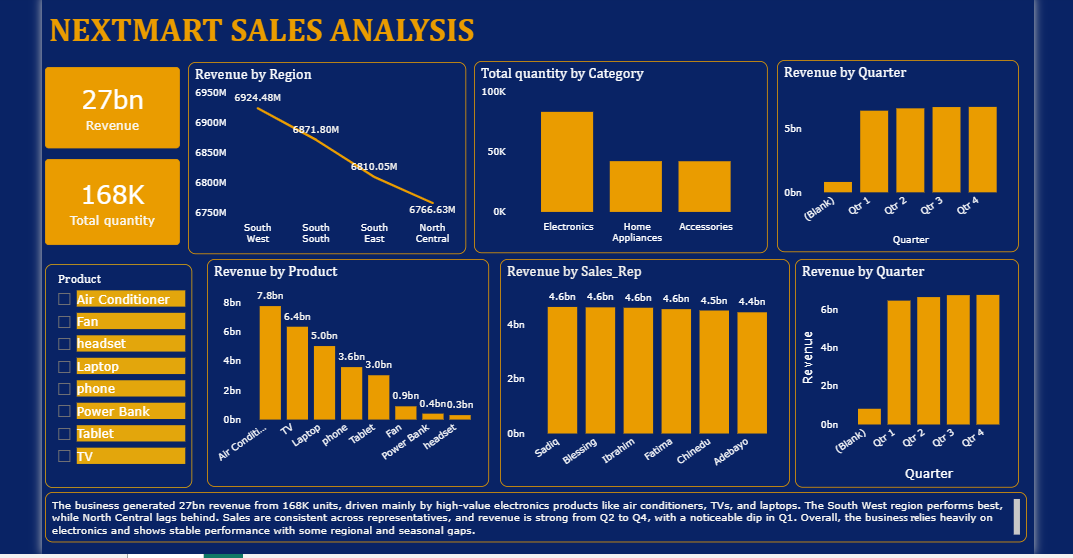

Layout of this report page (visuals, bound fields, positions):
{"tool":"powerbi","page":{"name":"Page 1","canvas":[1280,720],"ordinal":0},"visuals":[{"type":"lineChart","fields":{"Category":["Raw_Sales_Data (2).Region"],"Y":["Raw_Sales_Data (2).Revenue"]},"box":[188.4,85.2,358.7,247.7],"z":0},{"type":"clusteredColumnChart","fields":{"Category":["Raw_Sales_Data (2).Category"],"Y":["Raw_Sales_Data (2).Total quantity"]},"box":[557.4,83.9,379.4,247.7],"z":1000},{"type":"columnChart","fields":{"Category":["Raw_Sales_Data (2).Product"],"Y":["Raw_Sales_Data (2).Revenue"]},"box":[212.9,339.4,363.9,294.2],"z":2000},{"type":"clusteredColumnChart","fields":{"Category":["Raw_Sales_Data (2).Sales_Rep"],"Y":["Raw_Sales_Data (2).Revenue"]},"box":[591,339.4,374.2,294.2],"z":3000},{"type":"columnChart","fields":{"Category":["Raw_Sales_Data (2).Order_Date.Variation.Date Hierarchy.Quarter"],"Y":["Raw_Sales_Data (2).Revenue"]},"box":[971.7,340,289,294.5],"z":4000},{"type":"textbox","box":[4.3,11.3,636.4,107.7],"z":5000},{"type":"card","fields":{"Values":["Raw_Sales_Data (2).Revenue"]},"box":[3.9,91.6,174.2,104.5],"z":6000},{"type":"card","fields":{"Values":["Raw_Sales_Data (2).Total quantity"]},"box":[3.9,210.3,174.2,111],"z":7000},{"type":"columnChart","fields":{"Category":["Raw_Sales_Data (2).Order_Date.Variation.Date Hierarchy.Quarter","Raw_Sales_Data (2).Order_Date.Variation.Date Hierarchy.Month"],"Y":["Raw_Sales_Data (2).Revenue"]},"box":[948.3,82.6,312.4,247.7],"z":8000},{"type":"textbox","box":[4.3,640.6,1267.1,65.2],"z":9000},{"type":"slicer","fields":{"Values":["Raw_Sales_Data (2).Product"]},"box":[4.1,345.5,189.9,289],"z":10000}]}

Visuals, with their boxes in screenshot pixels (x1, y1, x2, y2):
lineChart - Raw_Sales_Data (2).Region x Raw_Sales_Data (2).Revenue: left=183, top=62, right=468, bottom=259
clusteredColumnChart - Raw_Sales_Data (2).Category x Raw_Sales_Data (2).Total quantity: left=476, top=61, right=777, bottom=258
columnChart - Raw_Sales_Data (2).Product x Raw_Sales_Data (2).Revenue: left=202, top=264, right=491, bottom=497
clusteredColumnChart - Raw_Sales_Data (2).Sales_Rep x Raw_Sales_Data (2).Revenue: left=503, top=264, right=800, bottom=497
columnChart - Raw_Sales_Data (2).Order_Date.Variation.Date Hierarchy.Quarter x Raw_Sales_Data (2).Revenue: left=805, top=264, right=1034, bottom=498
textbox: left=37, top=3, right=542, bottom=89
card - Raw_Sales_Data (2).Revenue: left=37, top=67, right=175, bottom=150
card - Raw_Sales_Data (2).Total quantity: left=37, top=161, right=175, bottom=249
columnChart - Raw_Sales_Data (2).Order_Date.Variation.Date Hierarchy.Quarter x Raw_Sales_Data (2).Order_Date.Variation.Date Hierarchy.Month: left=786, top=60, right=1034, bottom=257
textbox: left=37, top=503, right=1043, bottom=555
slicer - Raw_Sales_Data (2).Product: left=37, top=269, right=187, bottom=498
